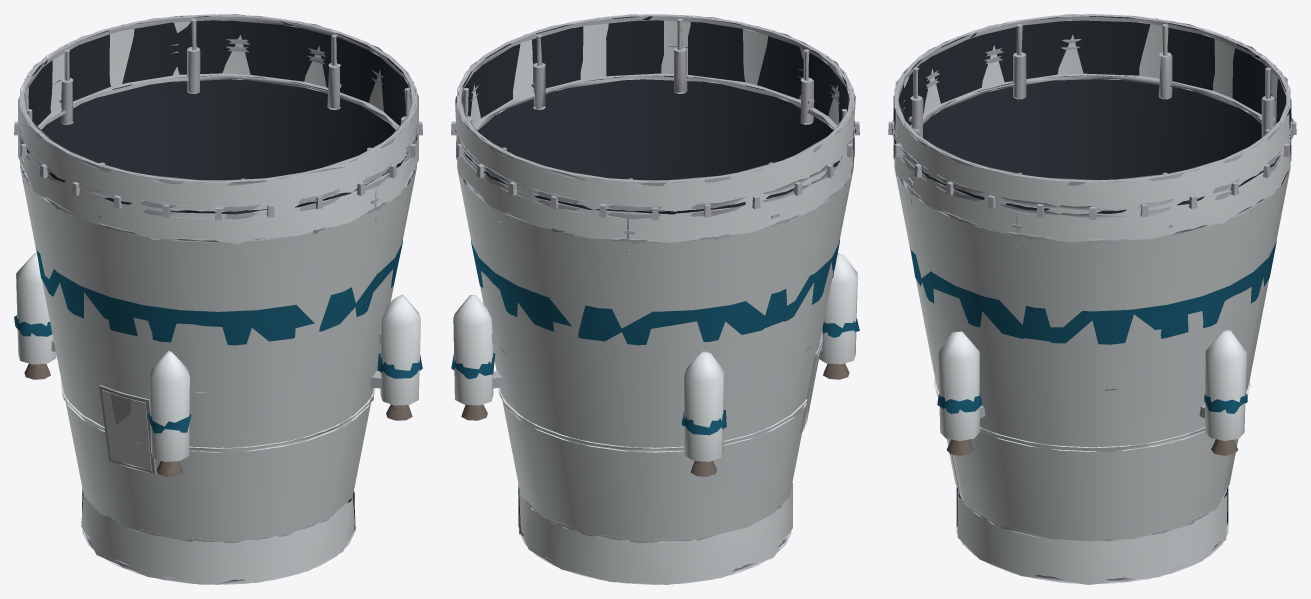
The model's file is interstage_pyro_d37_to_d54.glb.
3 views of the same model, side by side, from view 1: azimuth 30°, elevation 25°; view 2: azimuth 150°, elevation 25°; view 3: azimuth 270°, elevation 25° (orthographic).
Visible parts, largest first — view 1: interstage_pyro_d37_to_d54_mesh; view 2: interstage_pyro_d37_to_d54_mesh; view 3: interstage_pyro_d37_to_d54_mesh.
Boxes of the visible parts, x1=… form: interstage_pyro_d37_to_d54_mesh: x1=14, y1=14, x2=422, y2=584; interstage_pyro_d37_to_d54_mesh: x1=451, y1=14, x2=859, y2=584; interstage_pyro_d37_to_d54_mesh: x1=888, y1=14, x2=1296, y2=584.
Bounding box in the file's own units: 5.53 × 6.4 × 5.53.
